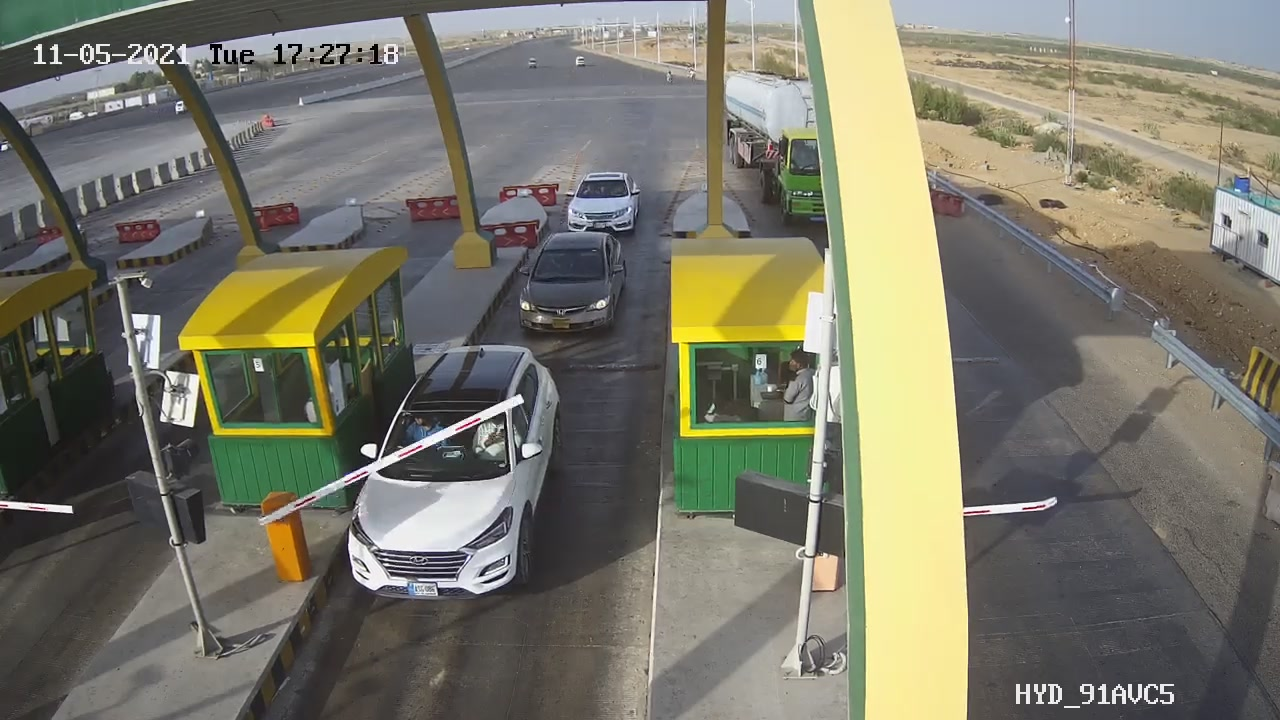F1: (333, 317, 583, 617), (500, 218, 647, 343)
